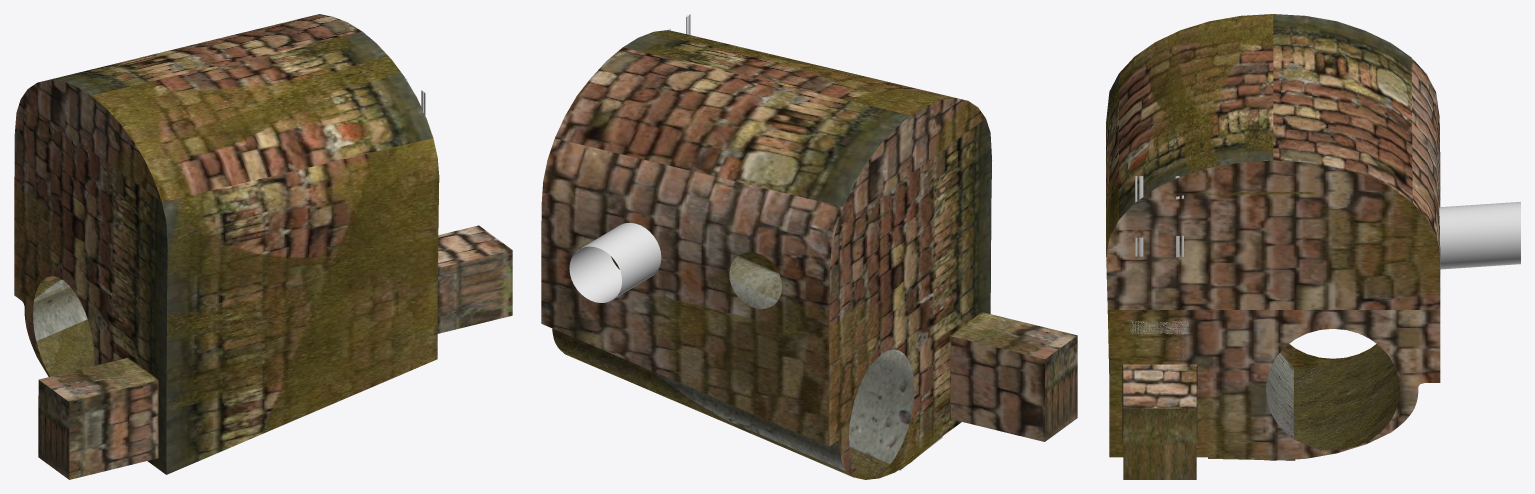
The model's file is slivUVSabs.fbx.
3 renders of one model, left to right at view 1: azimuth 30°, elevation 25°; view 2: azimuth 150°, elevation 25°; view 3: azimuth 270°, elevation 25°, orthographic. The views are drawn at different scales.
Parts seen in each view (by area): view 1: Cylinder.000, Cylinder.005; view 2: Cylinder.000, Cylinder.005, Cylinder.001, Cylinder.002, Cylinder.010; view 3: Cylinder.000, Cylinder.005, Cylinder.002, Cylinder.001, Cylinder.010, Cylinder.004.
Boxes of the visible parts, x1,y1,x2,y2 form: Cylinder.000: (14, 14, 512, 479); Cylinder.005: (33, 277, 94, 376); Cylinder.000: (541, 30, 1077, 479); Cylinder.005: (552, 328, 889, 477); Cylinder.001: (849, 349, 942, 470); Cylinder.002: (569, 222, 661, 302); Cylinder.010: (729, 256, 781, 308); Cylinder.000: (1106, 14, 1440, 479); Cylinder.005: (1293, 347, 1399, 450); Cylinder.002: (1439, 202, 1520, 269); Cylinder.001: (1267, 353, 1293, 412); Cylinder.010: (1208, 377, 1295, 460); Cylinder.004: (1130, 321, 1188, 333).
Size of the model in its own units: 99.45 by 70.33 by 74.15.
